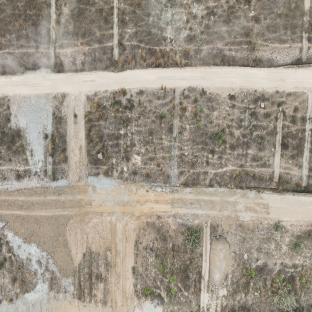slope_drain: (170, 86, 181, 184), (302, 93, 312, 187), (201, 223, 210, 312), (272, 112, 283, 183), (301, 0, 311, 61), (49, 1, 55, 71), (47, 114, 53, 181), (113, 0, 118, 61)
toe_drain: (144, 182, 312, 195), (173, 62, 303, 68)
